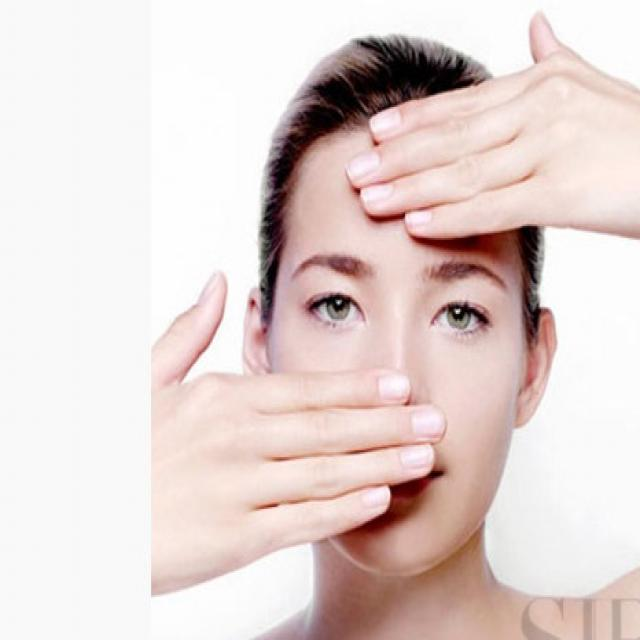nomask: (266, 145, 520, 538)
